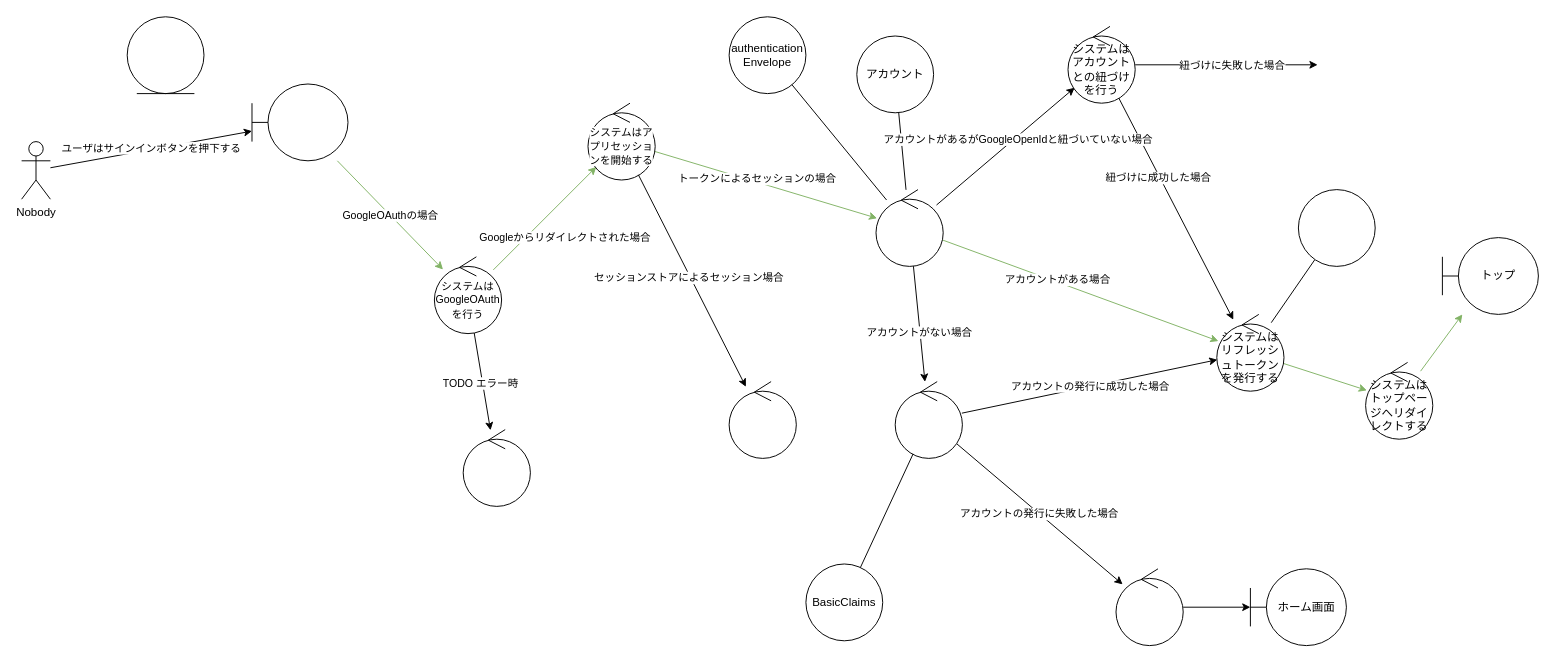
This 1555x662 diagram has some shape labels left out. Each missing label, with the centre of its shape:
"Entity Object" belongs at pixel 165 55.
"refresh token" belongs at pixel 1336 227.
"サインイン" belongs at pixel 299 122.
"システムはアカウントを取得する" belongs at pixel 909 227.
"システムはアカウントを発行する" belongs at pixel 928 419.
"システムはエラーを表示する" belongs at pixel 1149 607.
